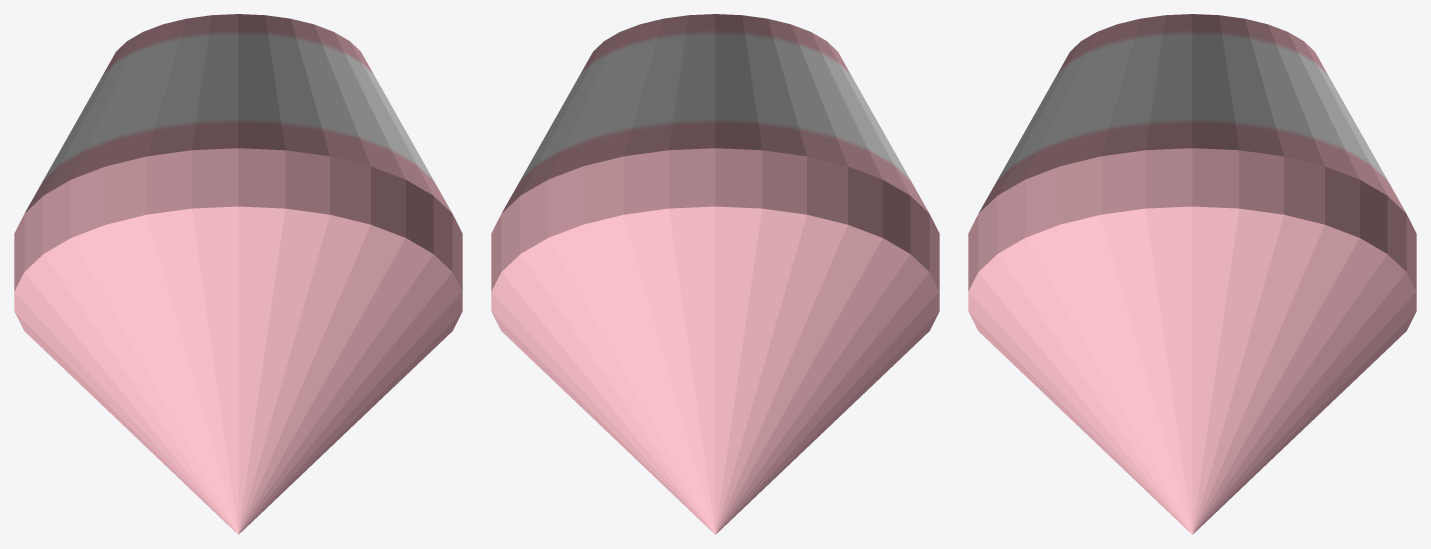
3 renders of one model, left to right at view 1: azimuth 30°, elevation 25°; view 2: azimuth 150°, elevation 25°; view 3: azimuth 270°, elevation 25°, orthographic.
Visible parts, largest first — view 1: algeomath; view 2: algeomath; view 3: algeomath.
Boxes of the visible parts, bbox=[...] form: algeomath: bbox=[14, 14, 462, 534]; algeomath: bbox=[491, 14, 939, 534]; algeomath: bbox=[968, 14, 1416, 534].
Size of the model in its own units: 7 by 8 by 6.96.
1 material, 1 textured.
